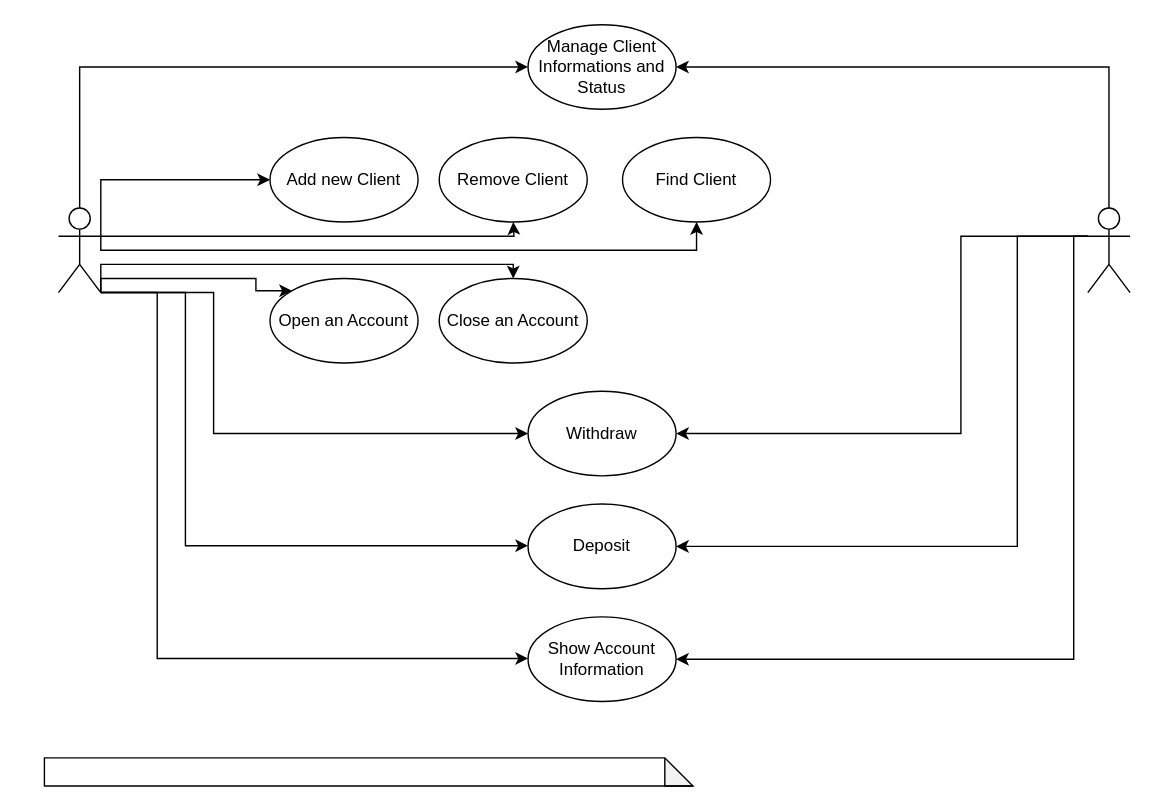
Image size: 1155x811. Some labels were removed from this diagram. Each missing label, with the centre of its shape:
Bank Manager: point 79,250
Client: point 1108,250
Use Case Diagram made by: Miguel Beauchemin and Dominic Potvin: point 368,771
